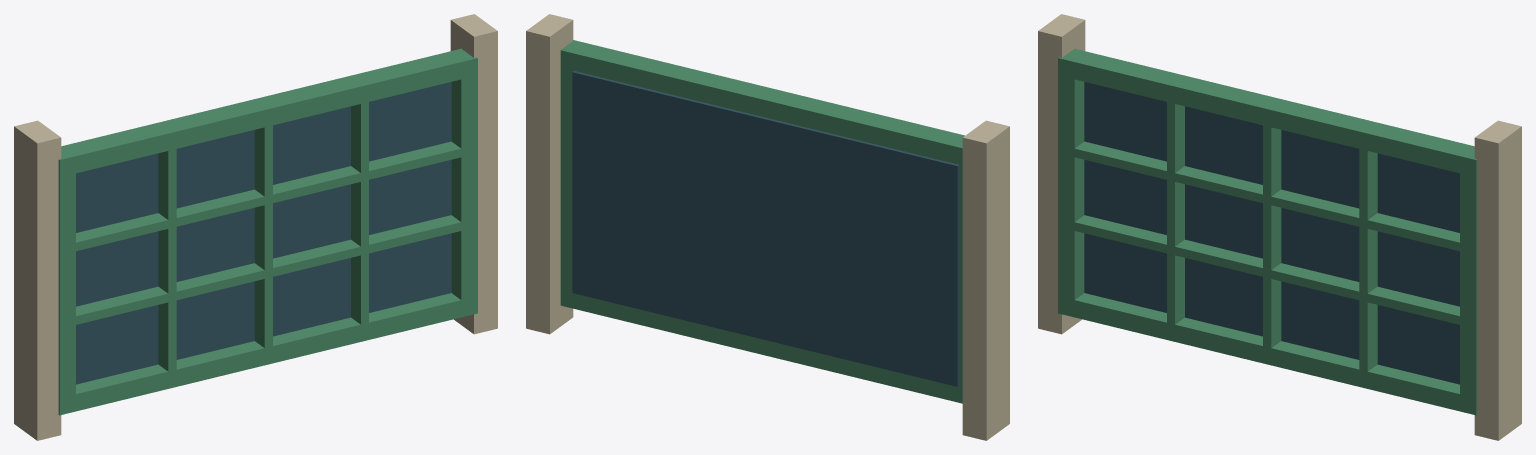
Rendered from window_38.glb.
3 views of the same model, side by side, from view 1: azimuth 30°, elevation 25°; view 2: azimuth 150°, elevation 25°; view 3: azimuth 330°, elevation 25° (orthographic).
Parts seen in each view (by area): view 1: window_38; view 2: window_38; view 3: window_38.
Boxes of the visible parts, left/top/right/bottom form: window_38: left=14, top=14, right=497, bottom=440; window_38: left=526, top=14, right=1009, bottom=440; window_38: left=1038, top=14, right=1521, bottom=440.
Bounding box in the file's own units: 2.51 × 1.55 × 0.23.
